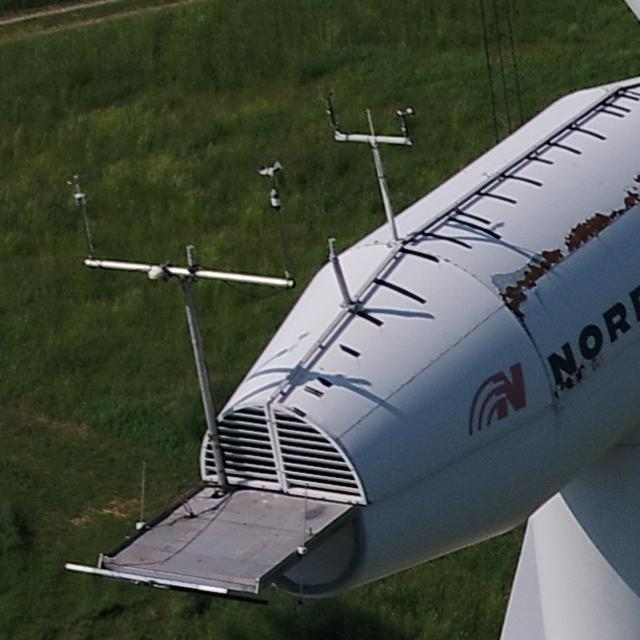damage: (564, 177, 638, 260), (487, 244, 567, 305), (498, 299, 540, 344), (561, 364, 589, 391)
